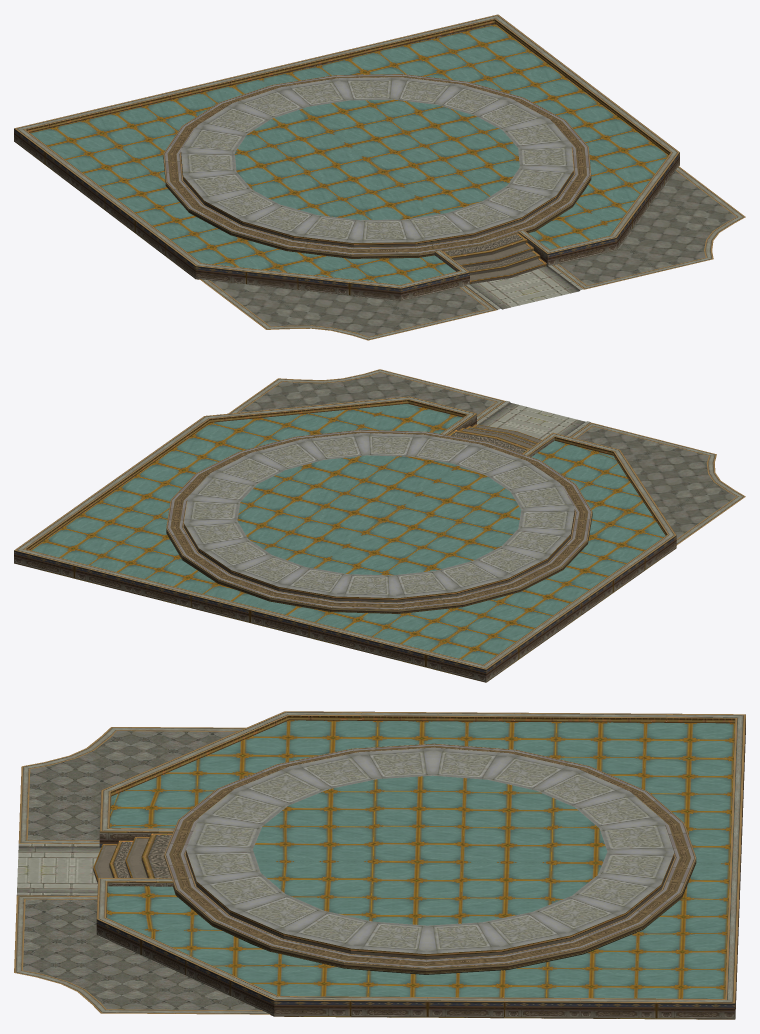
The model's file is Yland1_dm_11 Yland1.FBX.
3 renders of one model, top to bottom at view 1: azimuth 30°, elevation 25°; view 2: azimuth 150°, elevation 25°; view 3: azimuth 270°, elevation 25°, orthographic. The views are drawn at different scales.
Visible parts, largest first — view 1: Yland1_dm_11 Yland1; view 2: Yland1_dm_11 Yland1; view 3: Yland1_dm_11 Yland1.
Part boxes in pixels (x1=…): Yland1_dm_11 Yland1: x1=14, y1=14, x2=745, y2=340; Yland1_dm_11 Yland1: x1=14, y1=369, x2=745, y2=682; Yland1_dm_11 Yland1: x1=14, y1=711, x2=745, y2=1019.
Bounding box in the file's own units: 31.19 × 1.1 × 33.
